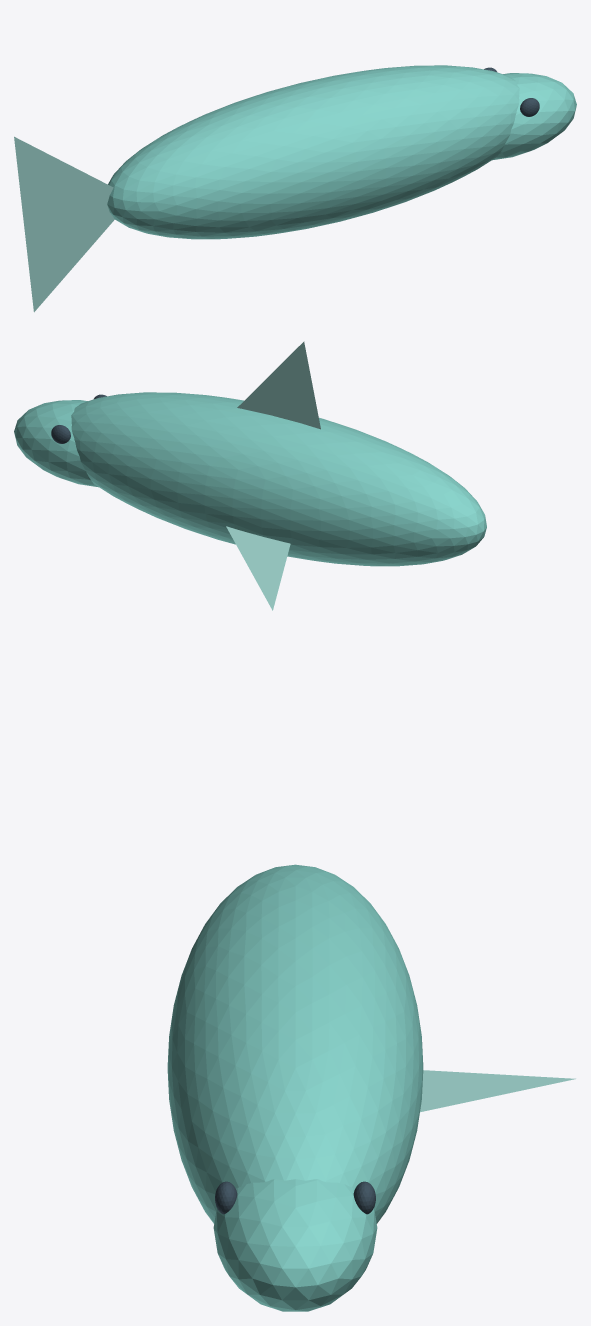
The picture shows the model from 3 angles, top to bottom: view 1: azimuth 30°, elevation 25°; view 2: azimuth 150°, elevation 25°; view 3: azimuth 270°, elevation 25°; orthographic projection. The views are drawn at different scales.
Parts seen in each view (by area): view 1: whale_00, whale_02, whale_01; view 2: whale_00, whale_01, whale_03, whale_04; view 3: whale_00, whale_01, whale_04.
Part boxes in pixels (<box>): whale_00: <box>107,65,519,239</box>; whale_02: <box>14,136,114,312</box>; whale_01: <box>492,73,576,160</box>; whale_00: <box>71,392,486,566</box>; whale_01: <box>14,400,98,487</box>; whale_03: <box>237,341,320,429</box>; whale_04: <box>226,526,290,610</box>; whale_00: <box>167,864,423,1223</box>; whale_01: <box>213,1179,377,1311</box>; whale_04: <box>420,1070,575,1112</box>.
Bounding box in the file's own units: 4.2 × 1.7 × 2.2.
